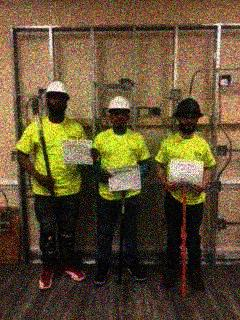helmet: (172, 97, 206, 134), (45, 80, 72, 115), (107, 94, 132, 129)
